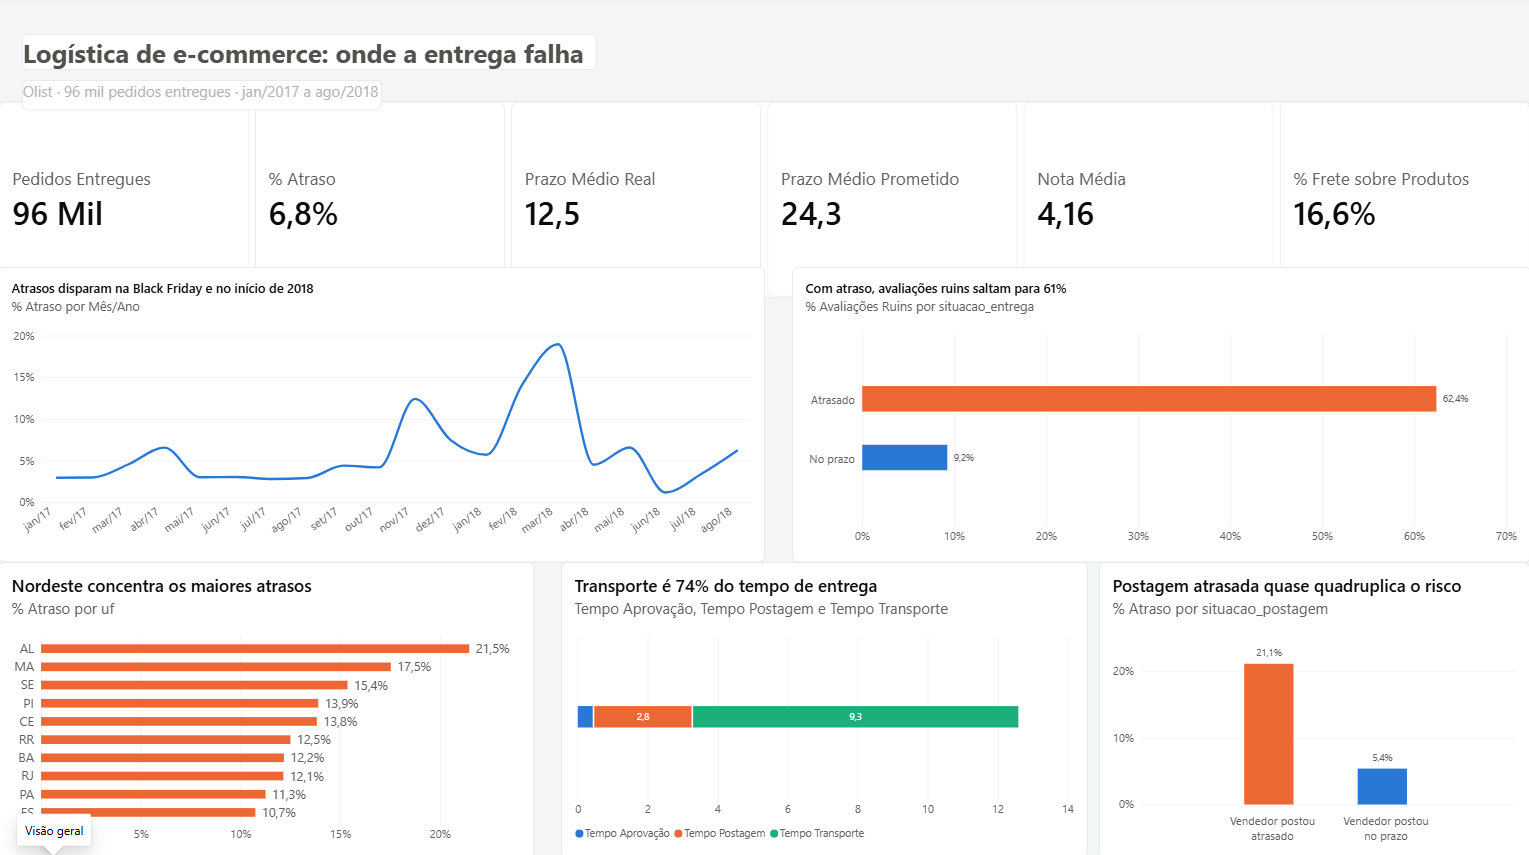

This screenshot's page, from the dashboard's own definition file:
{"tool":"powerbi","page":{"name":"Visão geral","canvas":[1920,1080],"ordinal":0},"visuals":[{"type":"cardVisual","fields":{"Data":["_Medidas.Pedidos Entregues","_Medidas.% Atraso","_Medidas.Prazo Médio Real","_Medidas.Prazo Médio Prometido","_Medidas.Nota Média","_Medidas.% Frete sobre Produtos"]},"box":[0,130.7,1920,247],"z":0},{"type":"textbox","box":[30.3,46.2,720.2,44.6],"z":1000},{"type":"textbox","box":[30.3,103.6,450.9,38.2],"z":2000},{"type":"lineChart","title":"Atrasos disparam na Black Friday e no início de 2018","fields":{"Category":["dim_calendario.Mês/Ano"],"Y":["_Medidas.% Atraso"]},"box":[0,337.8,960.8,369.7],"z":3000},{"type":"barChart","title":"Com atraso, avaliações ruins saltam para 61%","fields":{"Category":["fato_pedidos.situacao_entrega"],"Y":["_Medidas.% Avaliações Ruins"]},"box":[994.3,337.8,925.7,369.7],"z":4000},{"type":"barChart","title":"Nordeste concentra os maiores atrasos","fields":{"Category":["dim_estado.uf"],"Y":["_Medidas.% Atraso"]},"box":[0,707.5,672.4,372.8],"z":5000},{"type":"barChart","title":"Transporte é 74% do tempo de entrega","fields":{"Y":["_Medidas.Tempo Aprovação","_Medidas.Tempo Postagem","_Medidas.Tempo Transporte"]},"box":[705.9,707.5,659.7,371.3],"z":6000},{"type":"columnChart","title":"Postagem atrasada quase quadruplica o risco","fields":{"Category":["fato_pedidos.situacao_postagem"],"Y":["_Medidas.% Atraso"]},"box":[1379.9,707.5,540.1,372.8],"z":7000}]}

Visuals, with their boxes on the page's 1920x1080 design canvas (x1, y1, x2, y2). These are canvas units, not pixel positions in the 1529x855 screenshot, which may show the page scaled, cropped or inside an application window:
cardVisual - _Medidas.Pedidos Entregues x _Medidas.% Atraso: locate(0, 131, 1920, 378)
textbox: locate(30, 46, 750, 91)
textbox: locate(30, 104, 481, 142)
"Atrasos disparam na Black Friday e no início de 2018" lineChart: locate(0, 338, 961, 708)
"Com atraso, avaliações ruins saltam para 61%" barChart: locate(994, 338, 1920, 708)
"Nordeste concentra os maiores atrasos" barChart: locate(0, 708, 672, 1080)
"Transporte é 74% do tempo de entrega" barChart: locate(706, 708, 1366, 1079)
"Postagem atrasada quase quadruplica o risco" columnChart: locate(1380, 708, 1920, 1080)
